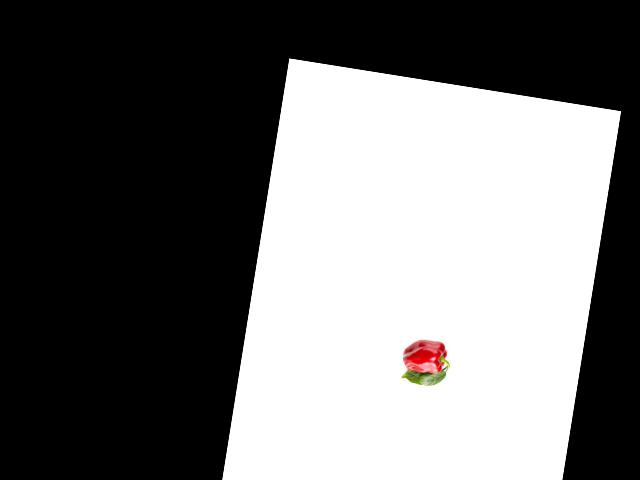bell_pepper: (398, 332, 453, 379)
